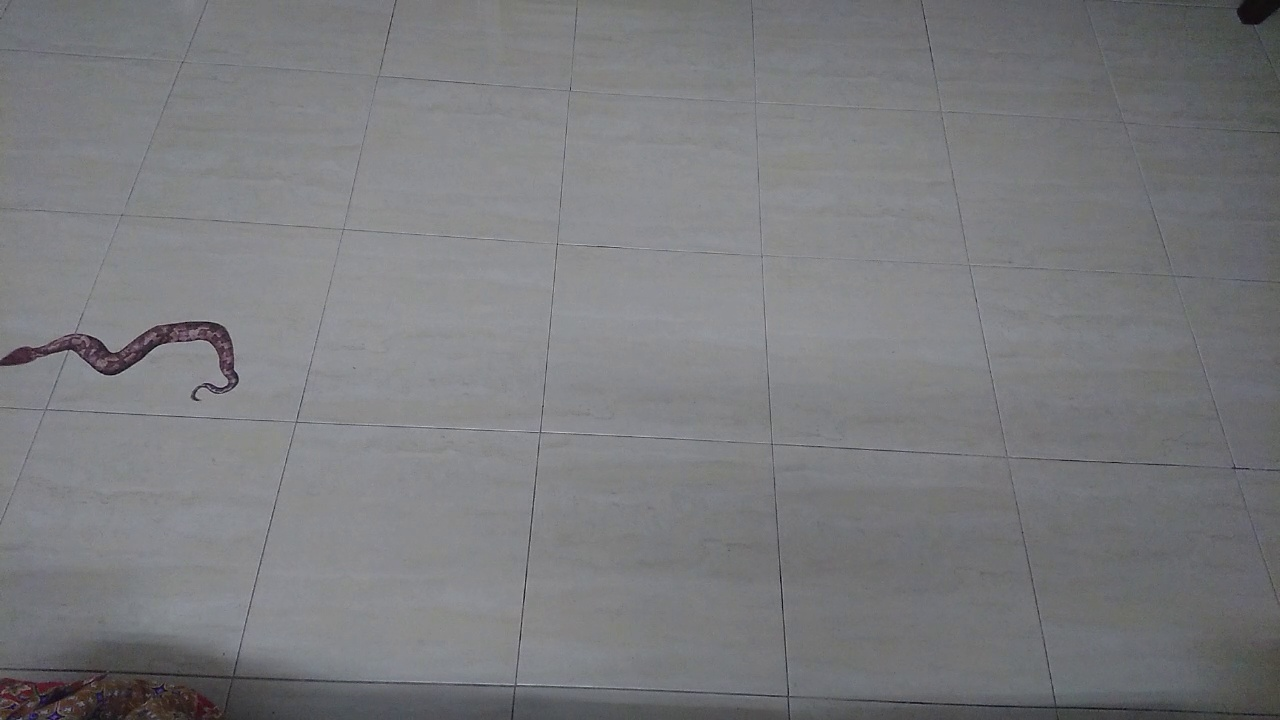snake: (1, 301, 259, 412)
